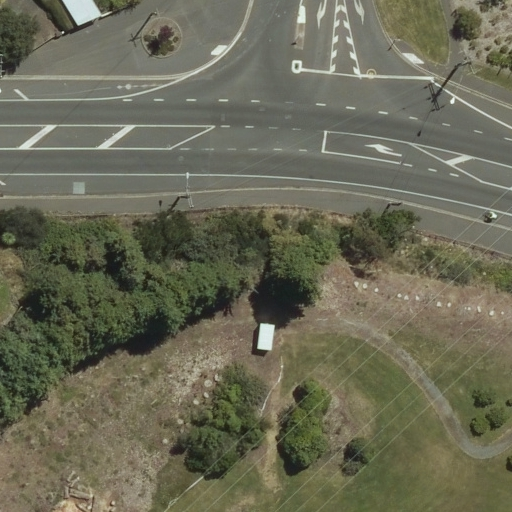DT: (452, 50, 479, 81), (381, 195, 407, 216), (181, 183, 200, 210)
